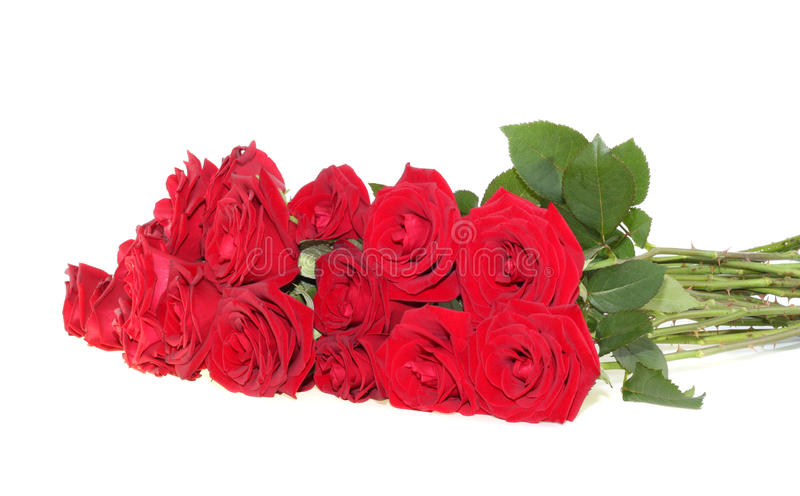RedRose: (201, 140, 301, 284), (465, 200, 590, 311), (470, 309, 594, 419), (371, 169, 455, 312), (206, 287, 312, 390), (392, 295, 473, 405), (299, 155, 380, 255), (317, 244, 394, 347), (94, 242, 174, 329), (318, 330, 387, 421), (141, 290, 195, 400), (164, 159, 206, 258), (58, 261, 113, 336)
